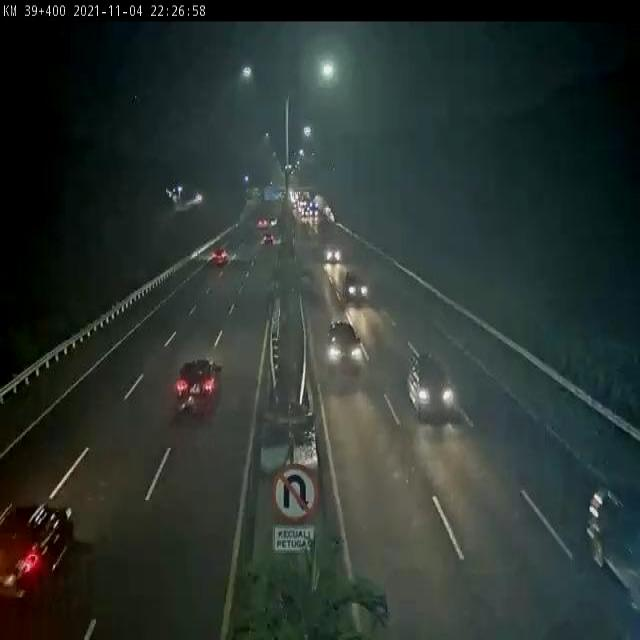Car: (0, 488, 82, 628), (574, 490, 640, 618), (166, 343, 232, 427), (410, 351, 458, 430), (325, 317, 368, 380), (336, 271, 375, 312), (207, 241, 235, 271), (322, 244, 343, 265), (258, 230, 278, 250)
